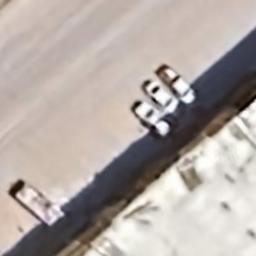pickup: (156, 64, 196, 106)
sedan: (135, 100, 173, 136), (145, 80, 180, 112)
